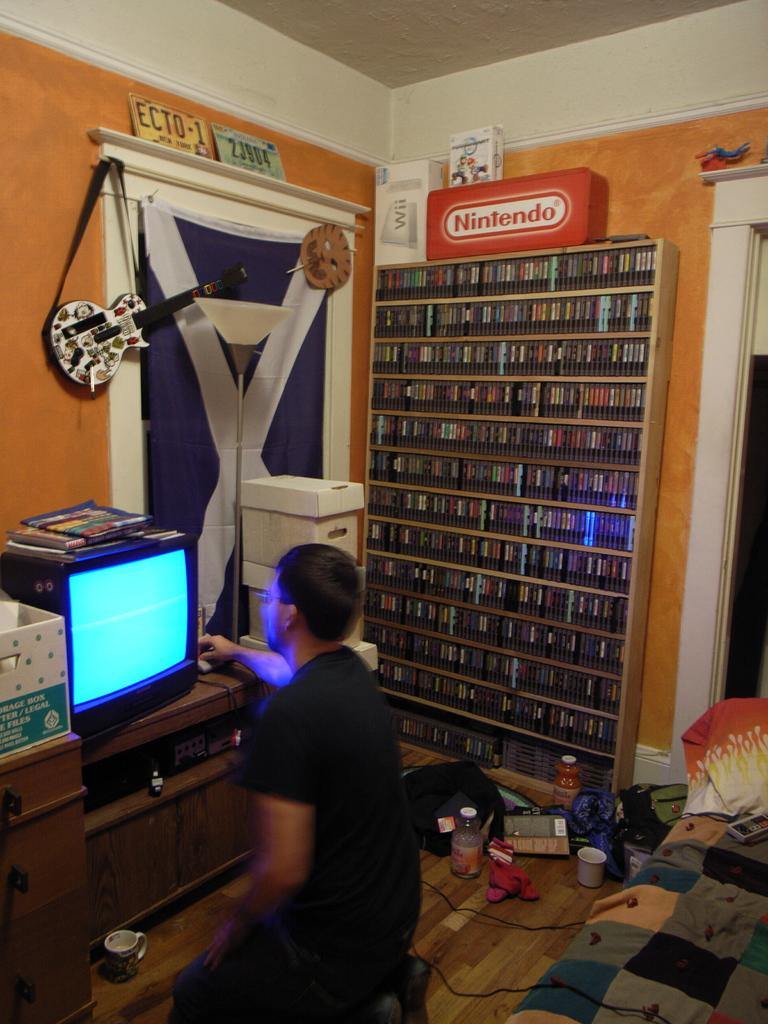Computer-monitor: (0, 532, 228, 733)
